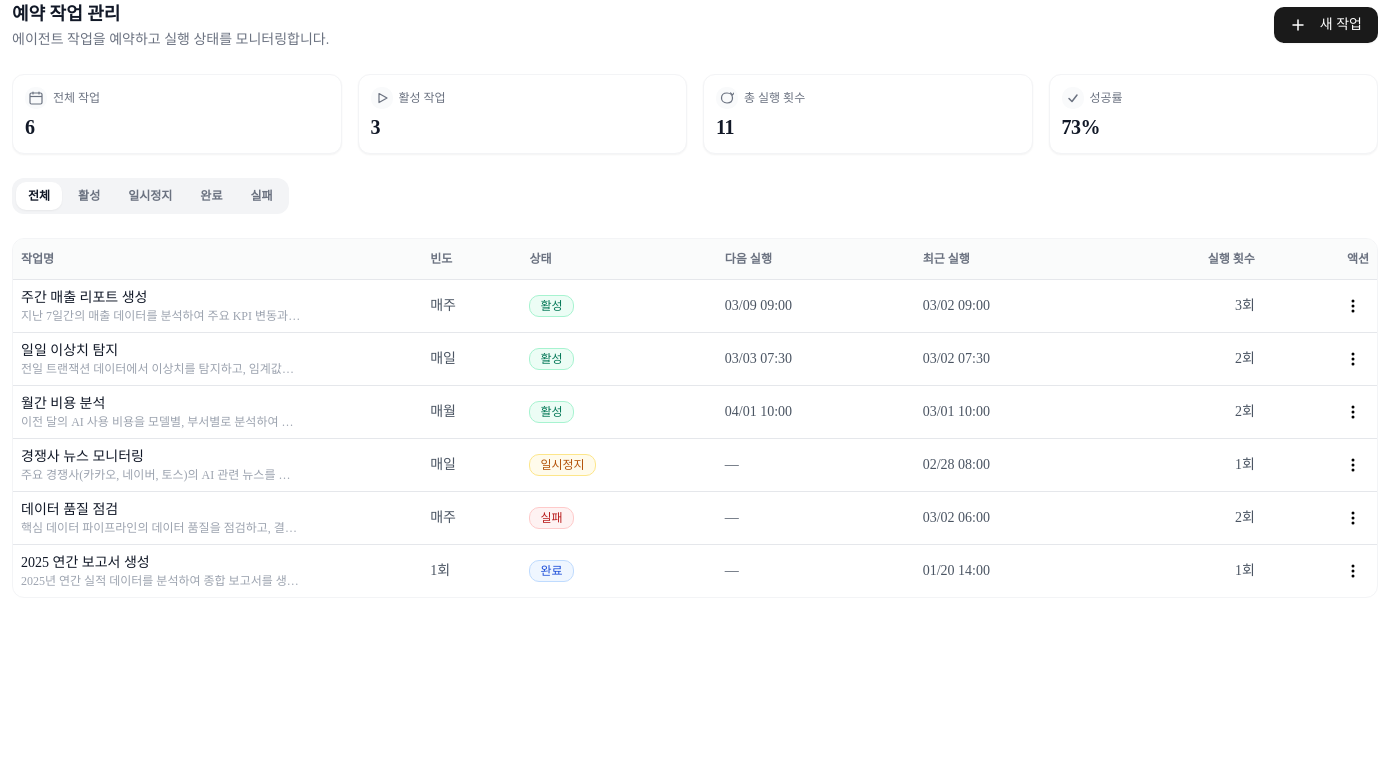
Test: Status Filter › filters tasks when clicking a filter
The image size is (1390, 768).
Expected: the text "일일 이상치 탐지" is shown, [21,342,118,358]
# Click "완료" filter within the filter group
Click the button "완료" at (211, 196), box [188,182,234,210]
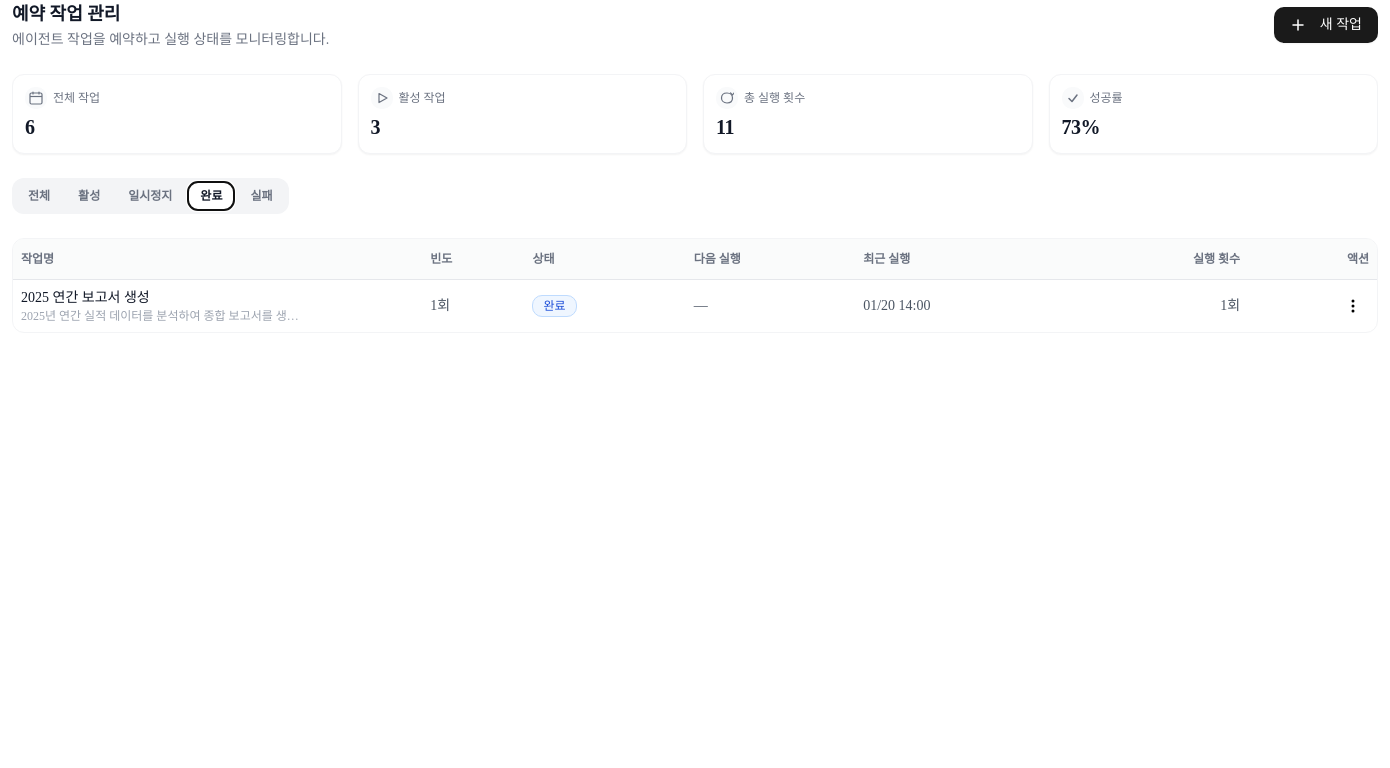
Expected: the text "2025 연간 보고서 생성" is shown, [21,290,150,304]
Expected: the text "일일 이상치 탐지" is gone
